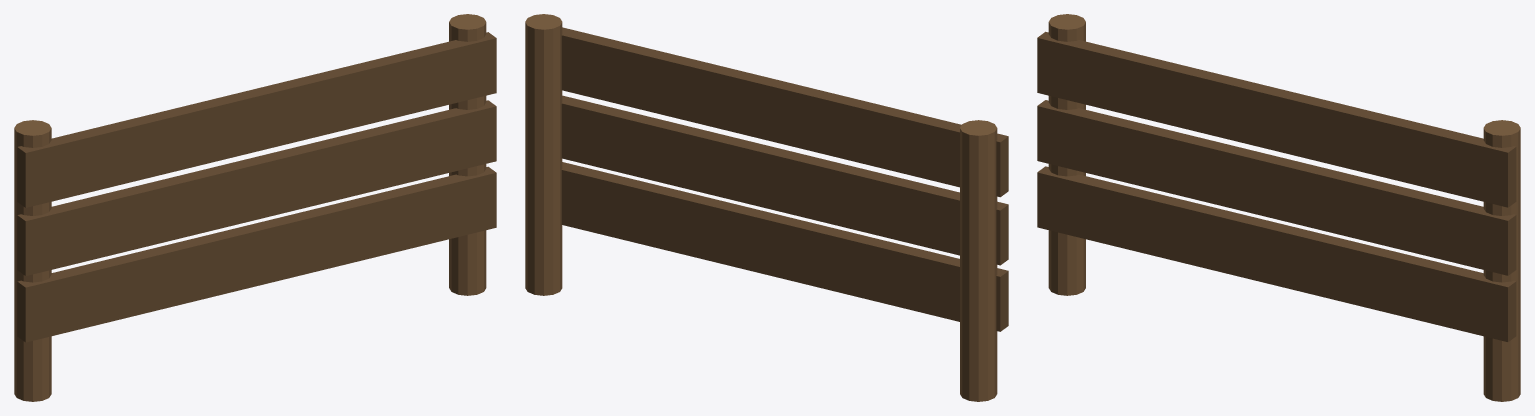
File: fence.fbx
3 renders of one model, left to right at view 1: azimuth 30°, elevation 25°; view 2: azimuth 150°, elevation 25°; view 3: azimuth 330°, elevation 25°, orthographic.
Visible parts, largest first — view 1: Fence; view 2: Fence; view 3: Fence.
Part boxes in pixels (x1=…): Fence: x1=14, y1=14, x2=496, y2=401; Fence: x1=525, y1=14, x2=1008, y2=401; Fence: x1=1037, y1=14, x2=1520, y2=401.
Size of the model in its own units: 467 by 252 by 35.75.
